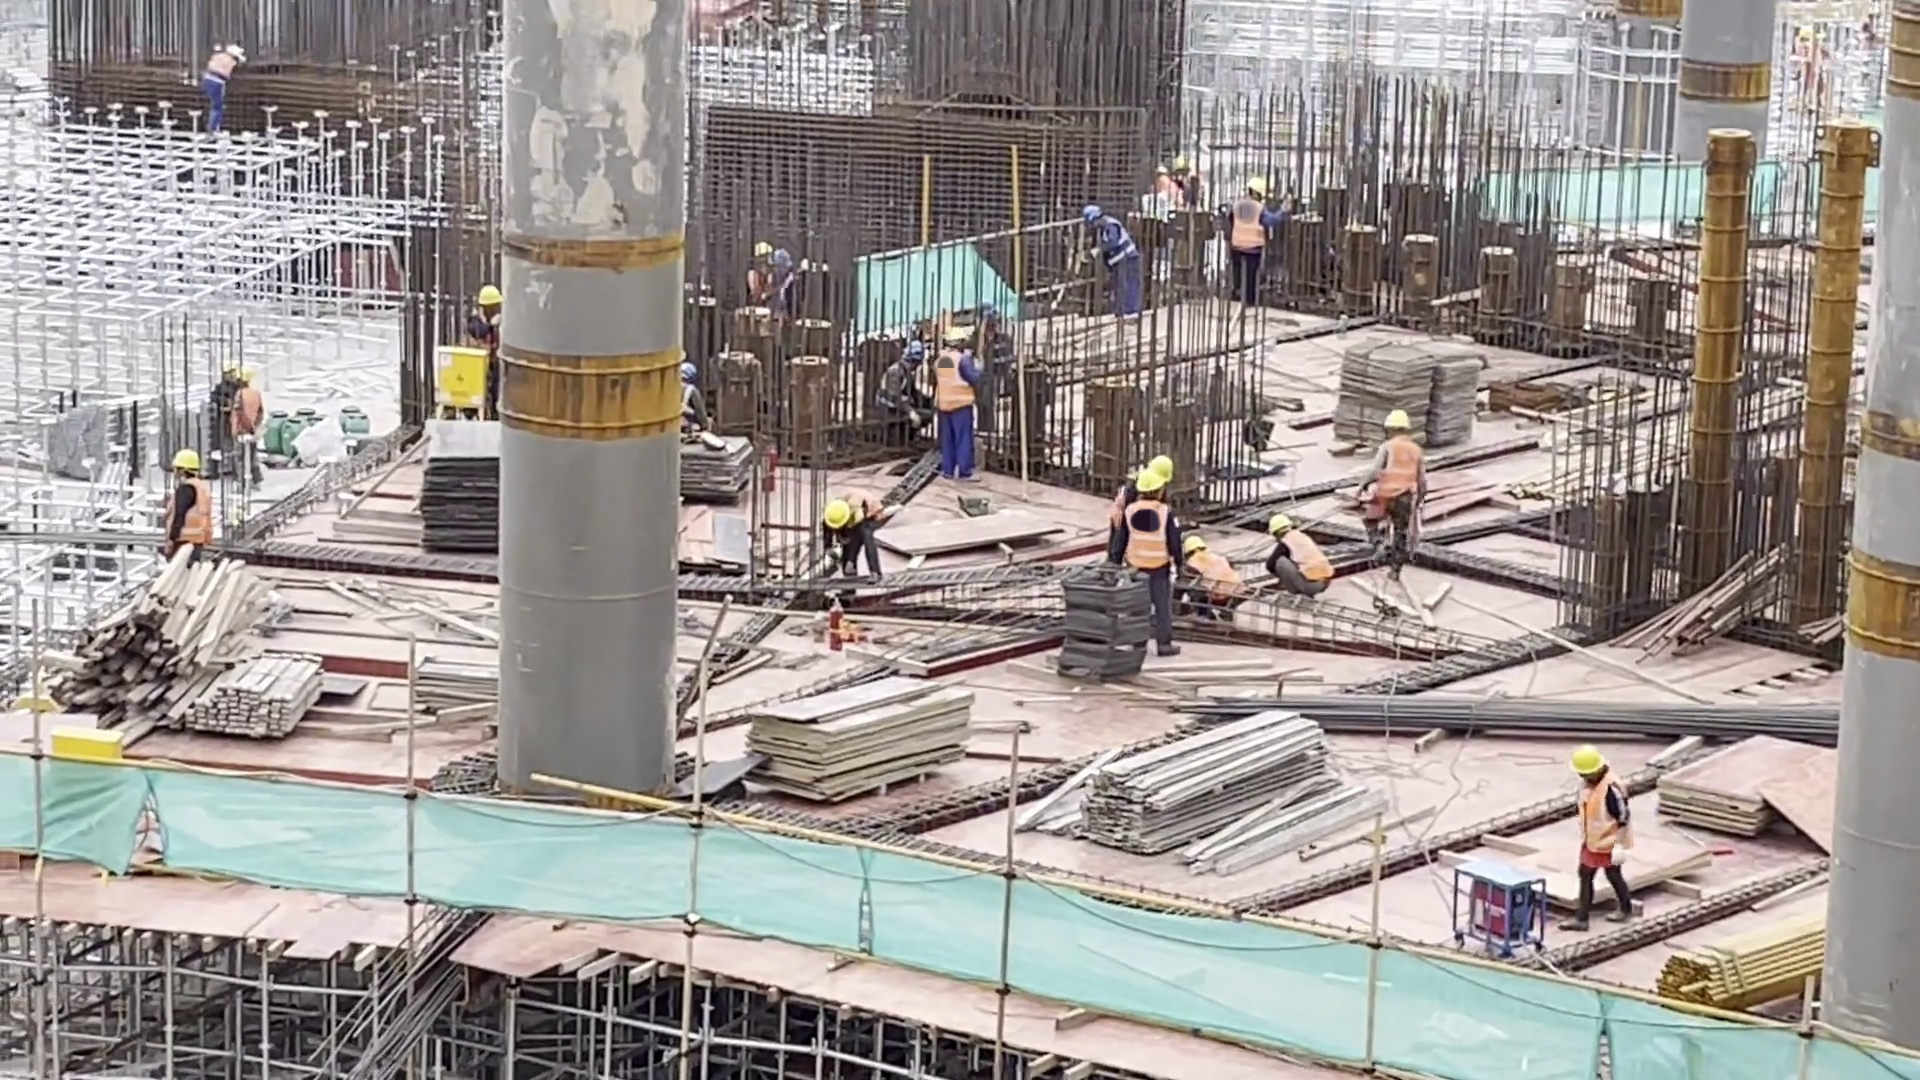board: (746, 665, 978, 810), (1662, 728, 1826, 836)
ebox: (437, 345, 489, 419)
helmet: (1567, 743, 1606, 776), (822, 500, 850, 533), (1383, 408, 1412, 434), (1134, 468, 1166, 492), (174, 448, 200, 472), (1269, 512, 1292, 537), (1184, 534, 1206, 558)
person: (1560, 743, 1640, 934), (1358, 408, 1429, 583), (1124, 466, 1186, 661), (1231, 179, 1297, 308), (1078, 201, 1148, 316), (938, 316, 984, 483), (815, 486, 891, 581), (878, 337, 937, 448), (1189, 534, 1262, 623), (1266, 512, 1338, 597), (157, 448, 217, 546), (226, 366, 269, 490), (200, 43, 237, 134), (460, 283, 508, 352), (742, 239, 778, 310), (769, 248, 800, 319), (678, 357, 704, 432)
vest: (1577, 774, 1635, 854), (1127, 500, 1175, 571), (170, 477, 217, 546), (1190, 551, 1250, 604), (1284, 531, 1339, 585), (1374, 438, 1424, 496), (938, 350, 977, 416), (1096, 219, 1142, 267), (1233, 197, 1267, 253)
wood: (61, 547, 286, 719), (189, 652, 329, 739)
